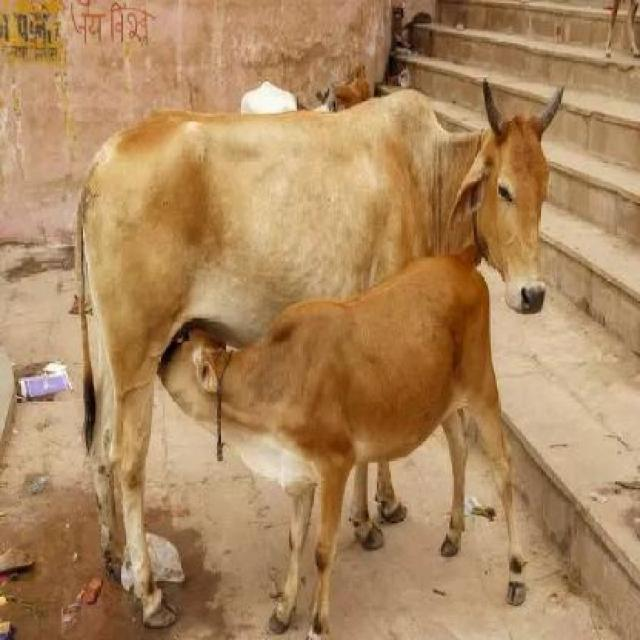cow: (52, 118, 560, 585), (168, 266, 528, 605)
